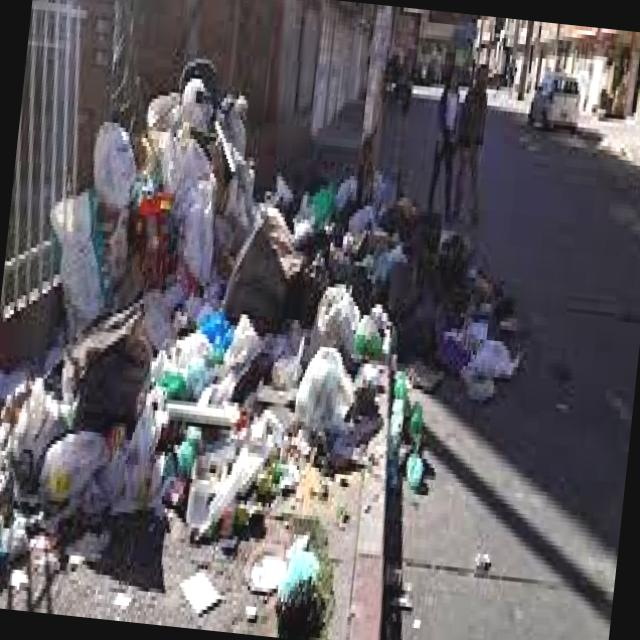garbage: (0, 59, 548, 640)
